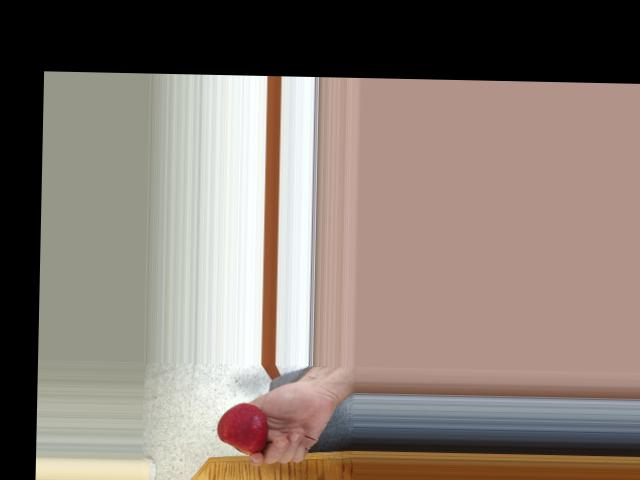apple: (215, 401, 271, 455)
